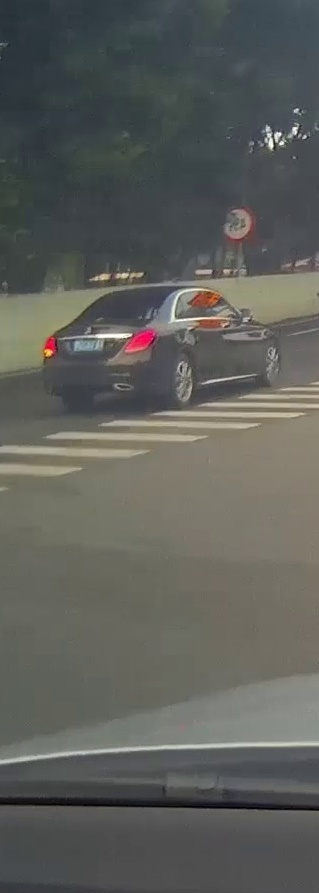L_light: (43, 336, 56, 359)
R_light: (123, 328, 157, 353)
T_light: (119, 296, 136, 301)
day-left: (41, 286, 173, 408)
